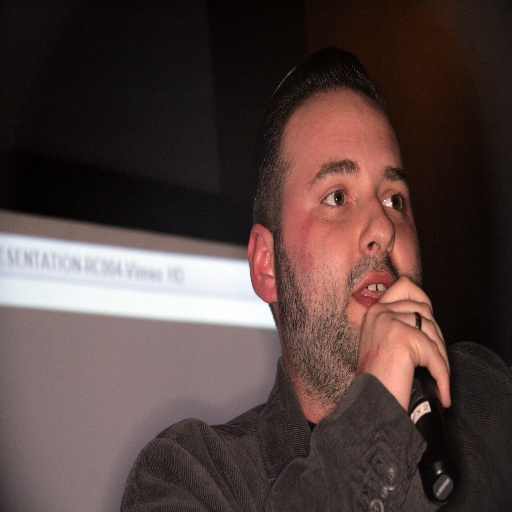hand: (362, 288, 448, 414)
